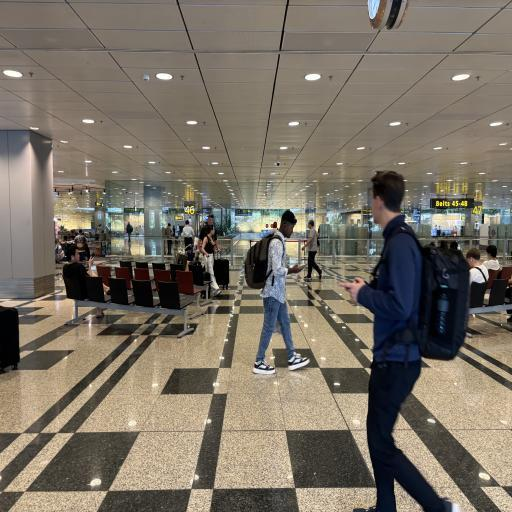person_left: (352, 160, 465, 512)
person_right: (244, 200, 317, 390)
